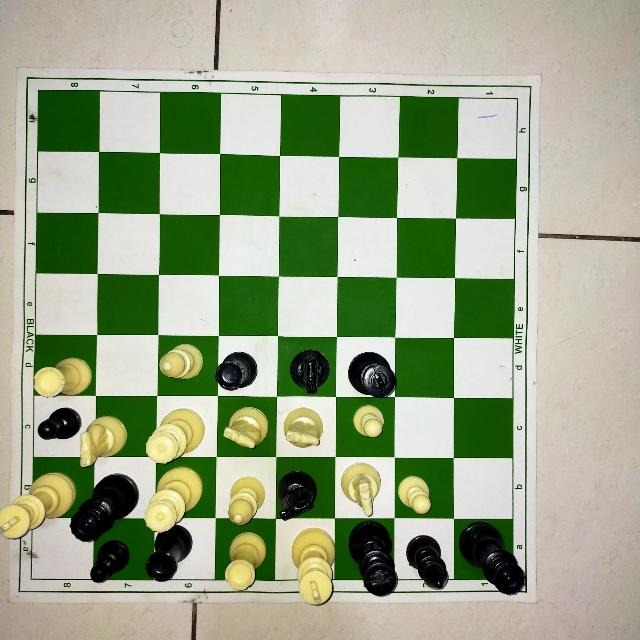black-bishop: (404, 533, 454, 595)
black-king: (347, 519, 401, 599), (345, 349, 400, 401)
black-knight: (273, 466, 321, 521), (287, 347, 334, 397)
black-pawn: (33, 395, 81, 449), (86, 537, 131, 588)
black-queen: (460, 518, 531, 598), (68, 473, 140, 541)
black-rook: (212, 349, 262, 393)
white-bishop: (226, 472, 269, 526), (155, 340, 206, 384)
white-king: (0, 469, 77, 549), (291, 525, 339, 608)
white-knight: (77, 412, 130, 469), (337, 459, 387, 515), (220, 402, 274, 450), (281, 401, 325, 451)
white-pawn: (396, 471, 434, 519), (349, 401, 388, 443)
white-queen: (143, 463, 205, 535), (147, 406, 207, 470)
white-rook: (223, 527, 269, 599), (29, 350, 91, 401)
